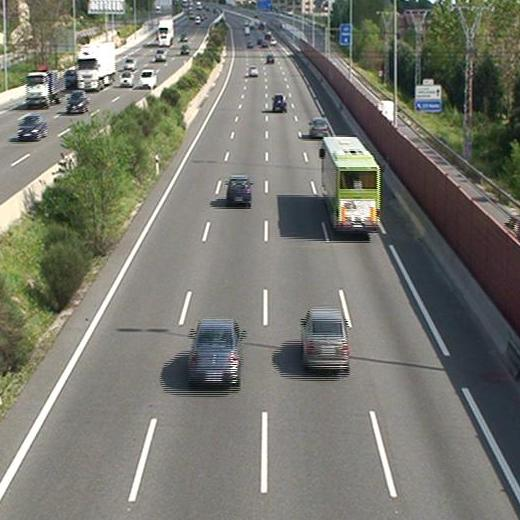bus: (319, 136, 382, 235)
car: (189, 321, 247, 387), (300, 309, 347, 371), (224, 176, 252, 206), (310, 118, 329, 138), (272, 93, 289, 113), (265, 53, 276, 66), (247, 66, 258, 77)
